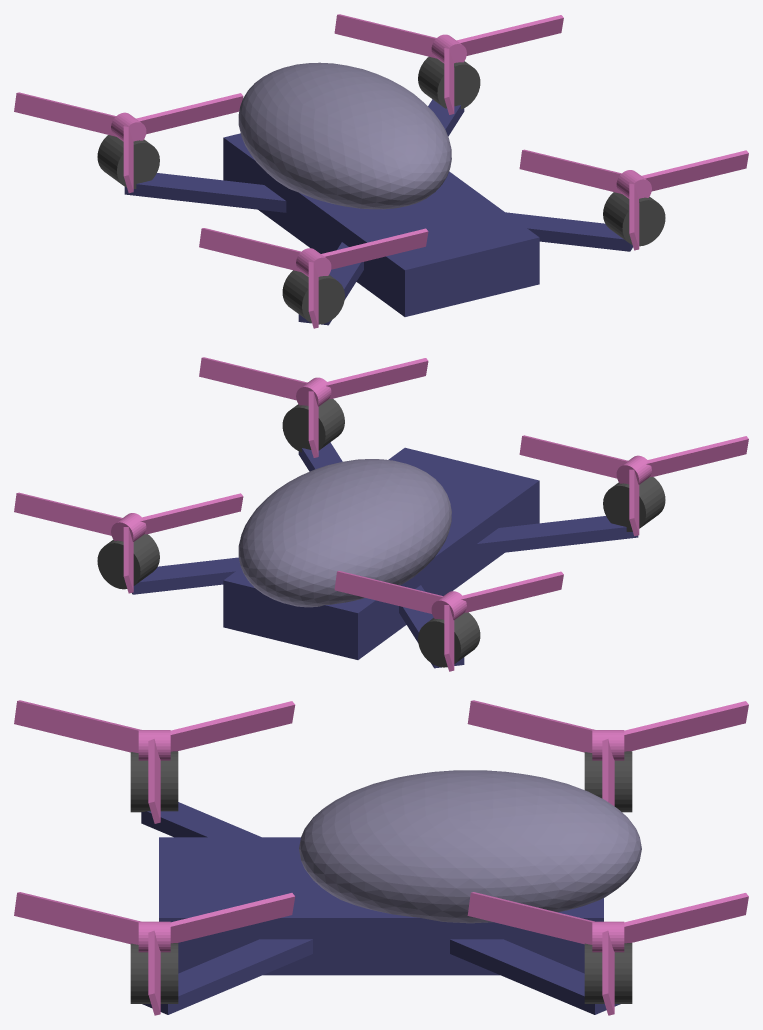
File: TBS Source One.glb
3 views of the same model, one above another, from view 1: azimuth 30°, elevation 25°; view 2: azimuth 150°, elevation 25°; view 3: azimuth 270°, elevation 25° (orthographic). The views are drawn at different scales.
Visible parts, largest first — view 1: canopy, frame_body, prop_1, prop_0, prop_2, prop_3, arm_3, arm_0, motor_2, motor_0, motor_1, motor_3 (+2 smaller); view 2: canopy, frame_body, prop_3, prop_2, prop_0, prop_1, arm_2, arm_1, motor_1, motor_3, motor_0, motor_2 (+2 smaller); view 3: canopy, frame_body, prop_1, prop_0, prop_2, prop_3, arm_1, arm_0, arm_2, motor_2, motor_0, motor_1 (+1 smaller).
Part boxes in pixels (left/top/right/bottom): canopy: left=238, top=62, right=451, bottom=209; frame_body: left=223, top=133, right=539, bottom=316; prop_1: left=334, top=14, right=563, bottom=114; prop_0: left=519, top=149, right=748, bottom=250; prop_2: left=199, top=228, right=428, bottom=328; prop_3: left=14, top=92, right=243, bottom=193; arm_3: left=124, top=173, right=286, bottom=212; arm_0: left=505, top=212, right=632, bottom=251; motor_2: left=282, top=270, right=344, bottom=324; motor_0: left=603, top=192, right=665, bottom=246; motor_1: left=418, top=56, right=480, bottom=109; motor_3: left=97, top=135, right=159, bottom=188; canopy: left=238, top=459, right=451, bottom=607; frame_body: left=223, top=447, right=539, bottom=659; prop_3: left=334, top=571, right=563, bottom=671; prop_2: left=519, top=435, right=748, bottom=536; prop_0: left=199, top=357, right=428, bottom=457; prop_1: left=14, top=492, right=243, bottom=593; arm_2: left=476, top=516, right=638, bottom=555; arm_1: left=132, top=557, right=240, bottom=594; motor_1: left=97, top=534, right=159, bottom=589; motor_3: left=418, top=612, right=480, bottom=667; motor_0: left=282, top=399, right=344, bottom=452; motor_2: left=603, top=477, right=665, bottom=531; canopy: left=299, top=770, right=641, bottom=923; frame_body: left=159, top=837, right=603, bottom=975; prop_1: left=467, top=892, right=748, bottom=1015; prop_0: left=14, top=892, right=295, bottom=1015; prop_2: left=14, top=700, right=295, bottom=823; prop_3: left=467, top=700, right=748, bottom=806; arm_1: left=450, top=939, right=620, bottom=1014; arm_0: left=142, top=939, right=312, bottom=1014; arm_2: left=141, top=802, right=261, bottom=837; motor_2: left=130, top=751, right=178, bottom=812; motor_0: left=130, top=943, right=178, bottom=1003; motor_1: left=584, top=943, right=632, bottom=1003.
Bounding box in the file's own units: 0.2195 × 0.0516 × 0.2313.
